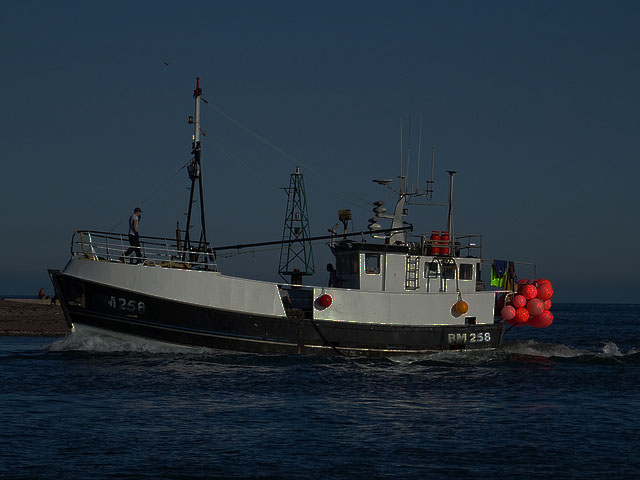fishing_boat: (53, 87, 545, 353)
